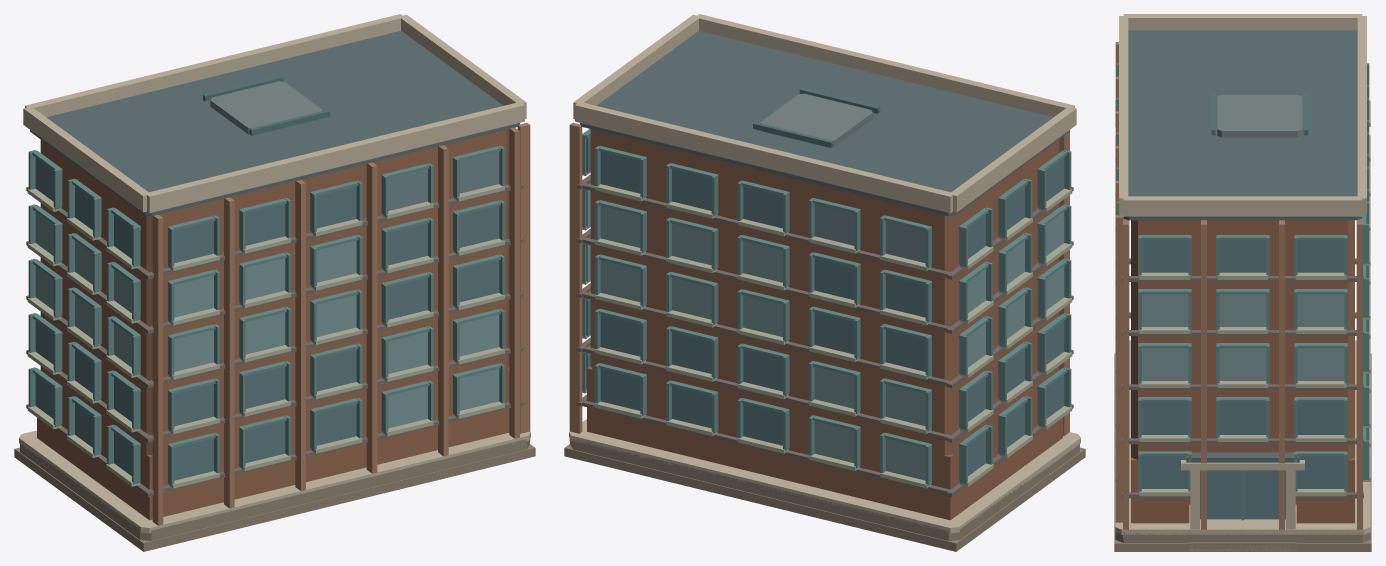
3 renders of one model, left to right at view 1: azimuth 30°, elevation 25°; view 2: azimuth 150°, elevation 25°; view 3: azimuth 270°, elevation 25°, orthographic.
Parts seen in each view (by area): view 1: form, relief, glaze, glowing; view 2: form, relief, glaze, glowing; view 3: form, glaze, relief, glowing.
Part boxes in pixels (x1,y1,x2,y2): form: [14, 14, 535, 551]; relief: [27, 145, 505, 488]; glaze: [35, 151, 499, 480]; glowing: [114, 240, 427, 428]; form: [564, 14, 1085, 551]; relief: [582, 128, 1072, 488]; glaze: [586, 136, 1064, 480]; glowing: [586, 190, 1064, 462]; form: [1114, 14, 1371, 551]; glaze: [1141, 240, 1344, 519]; relief: [1115, 63, 1370, 520]; glowing: [1297, 294, 1344, 326].
Bounding box in the file's own units: 14 × 12 × 8.
